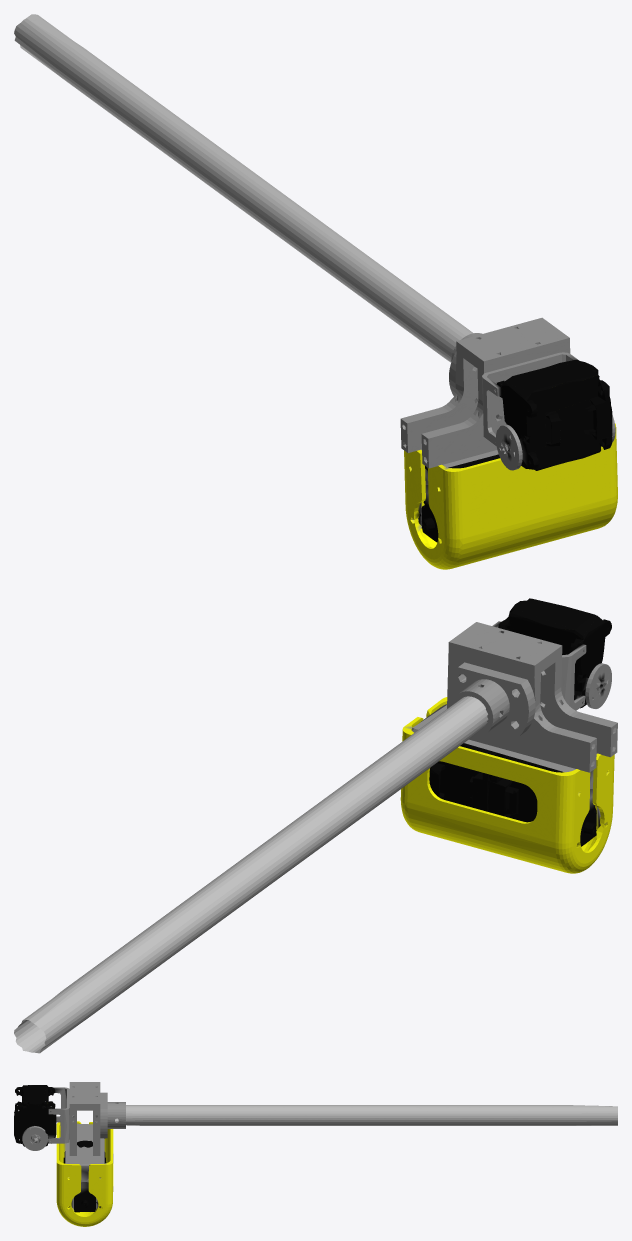
Rendered from torso_upper_mini.dae.
The picture shows the model from 3 angles, top to bottom: view 1: azimuth 30°, elevation 25°; view 2: azimuth 150°, elevation 25°; view 3: azimuth 270°, elevation 25°; orthographic projection. The views are drawn at different scales.
Visible parts, largest first — view 1: node; view 2: node; view 3: node.
Part boxes in pixels (box(x1,y1,x2,y2)): node: box(14, 14, 617, 569); node: box(14, 598, 617, 1053); node: box(14, 1082, 617, 1226).
Size of the model in its own units: 9.68 by 10.46 by 49.18.
1 material, 1 textured.
